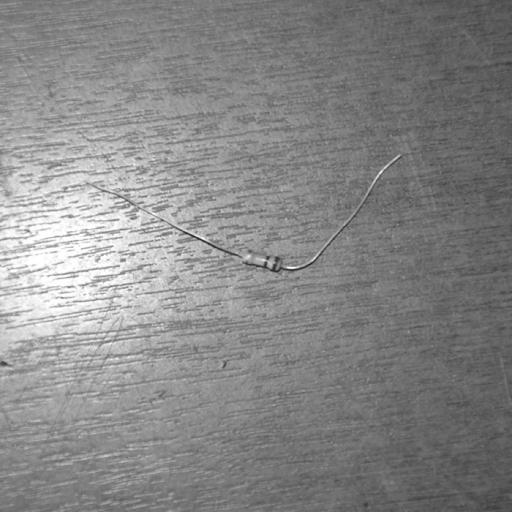RESISTOR: (168, 199, 355, 333)
